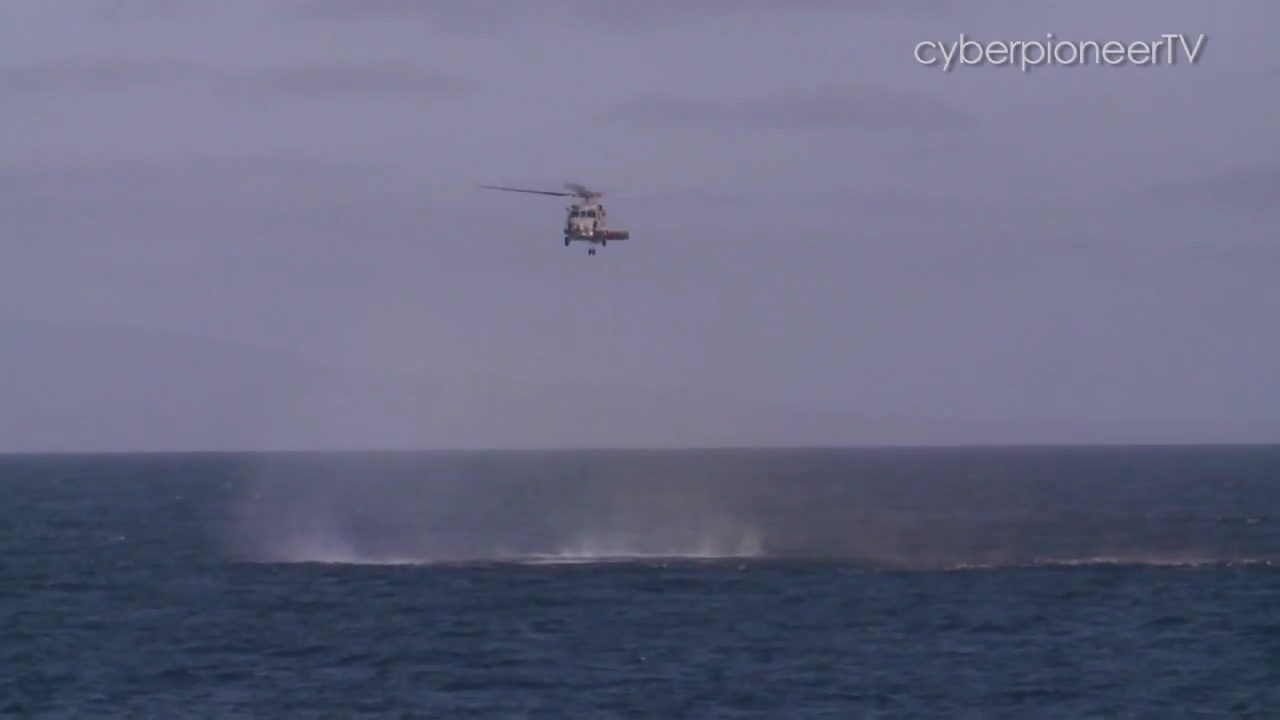seahawk: (472, 174, 687, 260)
